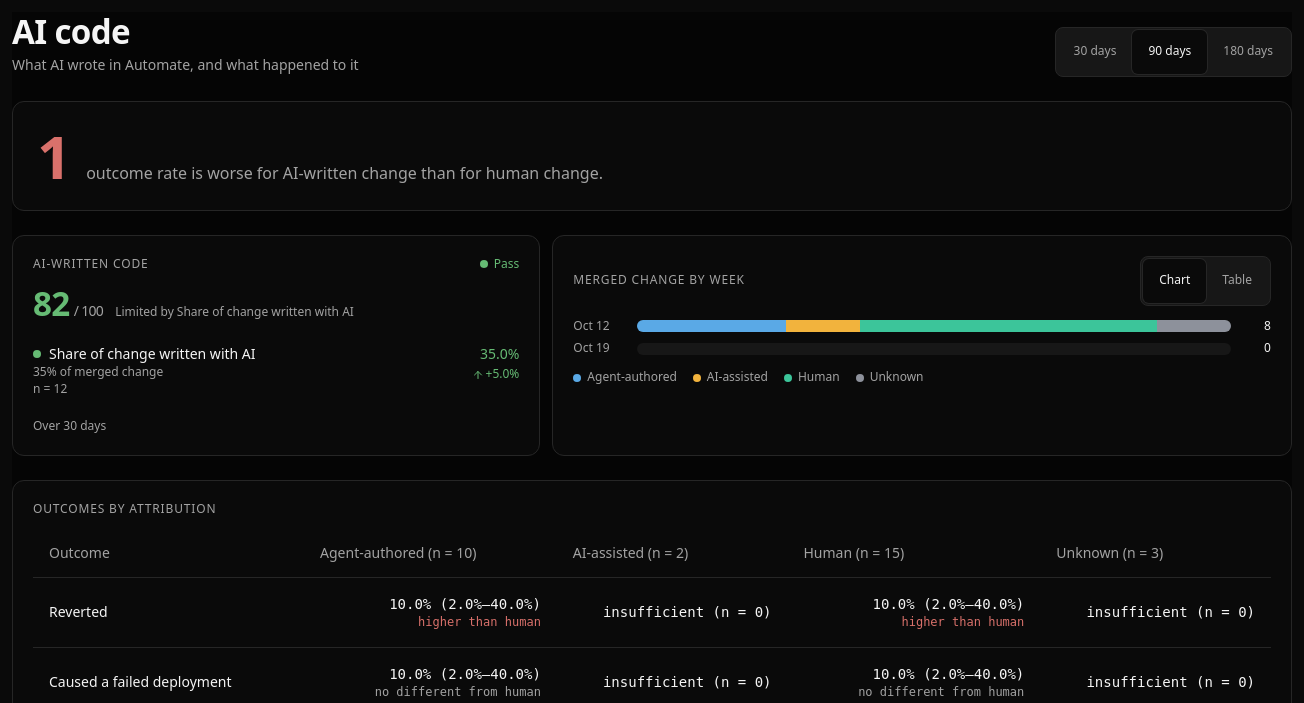
Scenario: the AI code page › draws weekly share as named stacked bars, and the same figures as a table
The image size is (1304, 703).
Expected: the list named "Legend" shows "Agent-authored", [587,368,677,385]
Click the button "Table": point(1237, 281) [1206,259,1268,303]
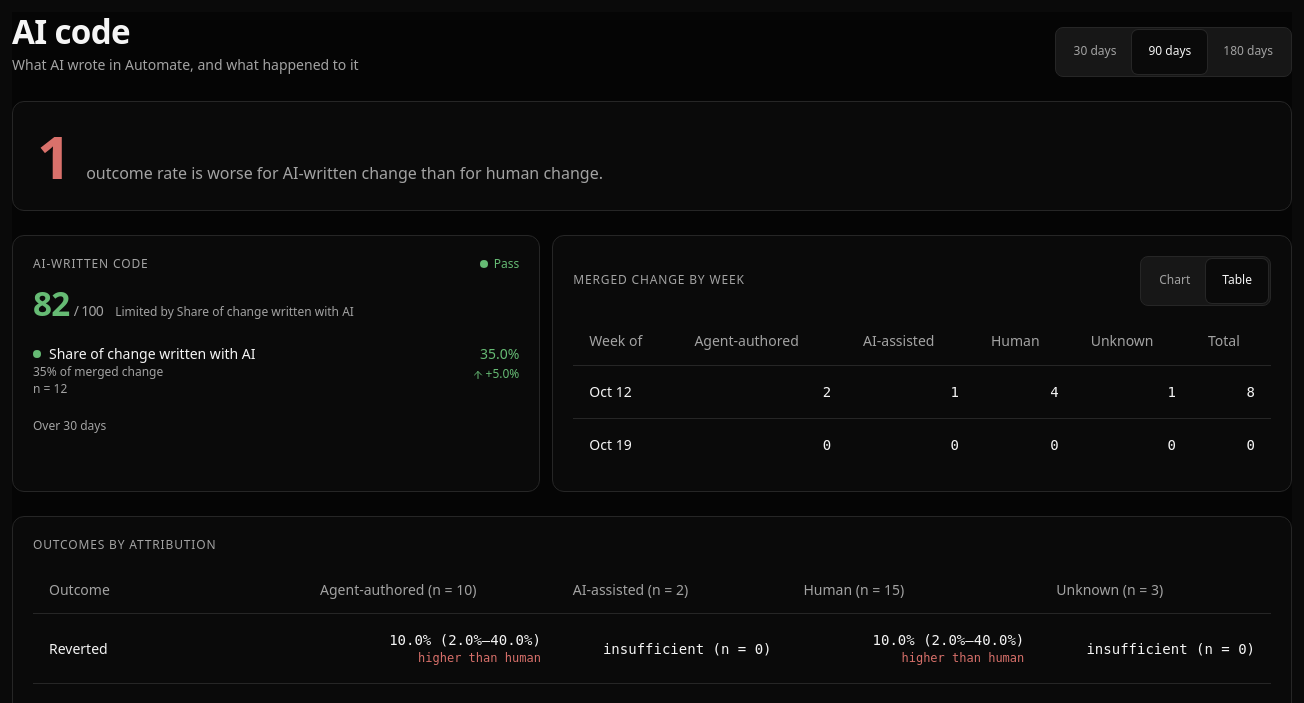
Expected: the row with test id "week-row-2026-10-12" reads "Oct 12 2 1 4 1 8", [573,366,1271,419]
Expected: the table named "Merged pull requests by week and attribution" is shown, [573,318,1271,471]
